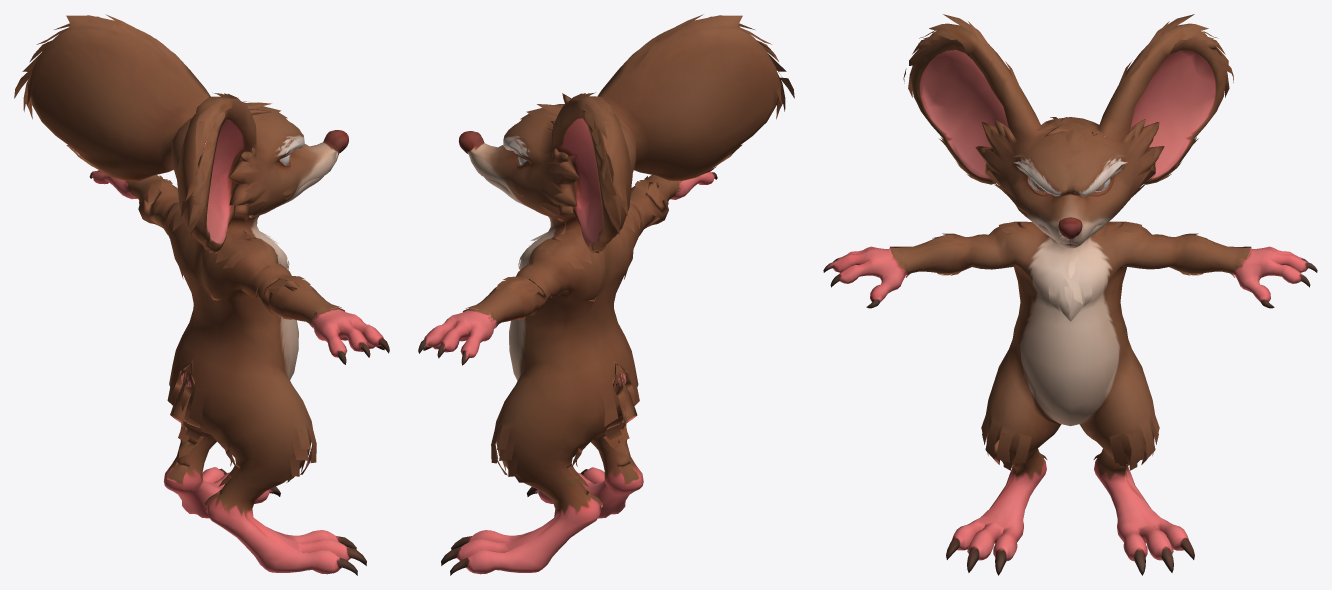
File: tail_v6.glb
3 renders of one model, left to right at view 1: azimuth 30°, elevation 25°; view 2: azimuth 150°, elevation 25°; view 3: azimuth 270°, elevation 25°, orthographic. The views are drawn at different scales.
Visible parts, largest first — view 1: Tail_Body.001; view 2: Tail_Body.001; view 3: Tail_Body.001.
Boxes of the visible parts, x1,y1,x2,y2 form: Tail_Body.001: (14, 14, 389, 575); Tail_Body.001: (418, 14, 794, 575); Tail_Body.001: (823, 14, 1317, 575).
Bounding box in the file's own units: 0.496 × 0.98 × 0.9111.
Materials: 1 (1 with a texture image).
